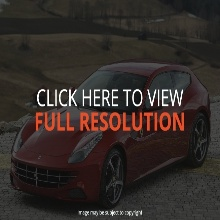no damage: (10, 61, 213, 206)
